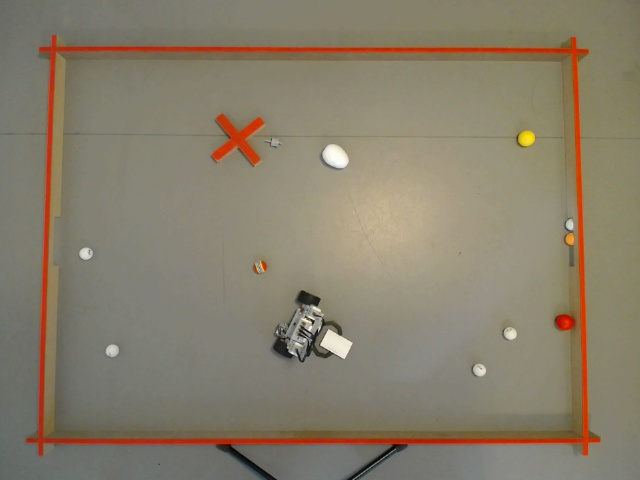big_goal: (566, 216, 577, 267), (53, 216, 59, 266)
cross: (210, 116, 264, 165)
egg: (320, 141, 351, 171)
orange: (566, 228, 574, 249)
robot: (271, 290, 344, 365)
wall: (53, 60, 571, 431)
white: (501, 324, 518, 341), (78, 245, 94, 263), (470, 363, 488, 378), (104, 344, 120, 360), (566, 219, 574, 230)
